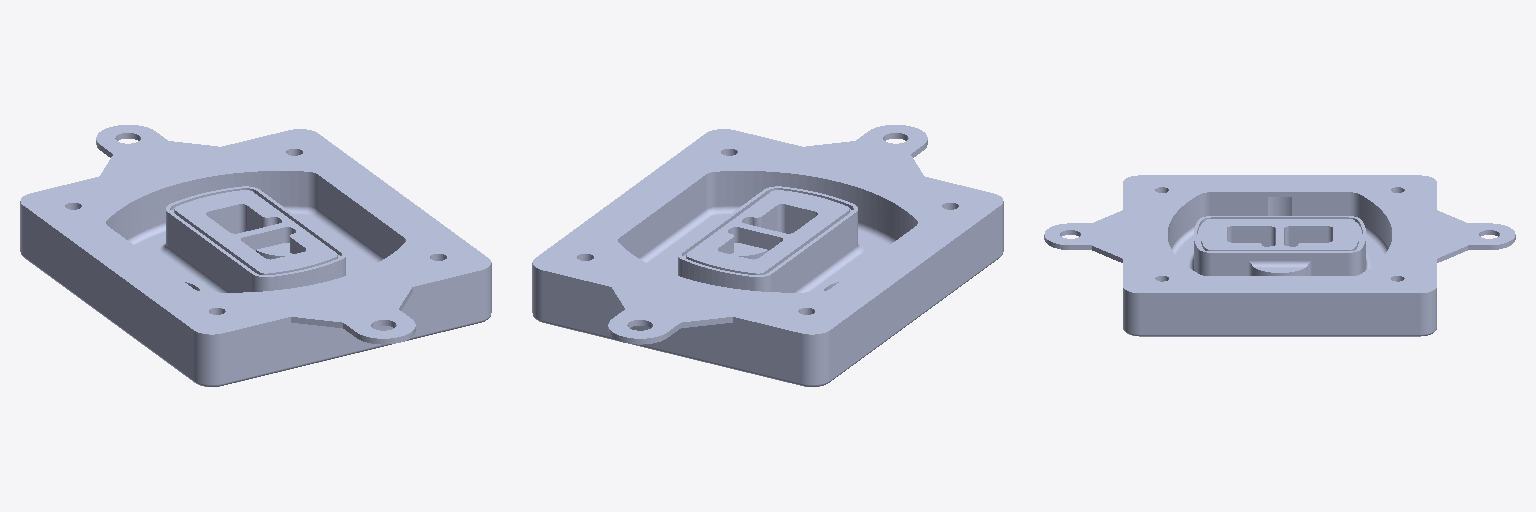
robot.urdf — abc_mesh_1_scale_4:
<?xml version="1.0" encoding="utf-8"?>
<!-- This URDF was automatically created by SolidWorks to URDF Exporter! Originally created by [author] ([email redacted]) 
     Commit Version: 1.5.1-0-g916b5db  Build Version: 1.5.7152.31018
     For more information, please see http://wiki.ros.org/sw_urdf_exporter -->
<robot
  name="abc_mesh_1_scale_4">
  <link
    name="abc_mesh_1_scale_4">
    <inertial>
      <origin
        xyz="0.0 0.0 -0.0"
        rpy="0 0 0" />
      <mass
        value="0.01" />
      <inertia
        ixx="0"
        ixy="-0"
        ixz="-0"
        iyy="0"
        iyz="-0"
        izz="0" />
    </inertial>
    <visual>
      <origin
        xyz="0 0 0"
        rpy="0 0 0" />
      <geometry>
        <mesh
          filename="package://ipa_kifz_data/test_dataset/meshes/abc_mesh_1_scale_4.STL" />
      </geometry>
      <material
        name="">
        <color
          rgba="0.79216 0.81961 0.93333 1" />
      </material>
    </visual>
    <collision>
      <origin
        xyz="0 0 0"
        rpy="0 0 0" />
      <geometry>
        <mesh
          filename="package://ipa_kifz_data/test_dataset/meshes/abc_mesh_1_scale_4.STL" />
      </geometry>
    </collision>
  </link>

  <!-- Turn of Gravity to fix workpiece at initial position-->
  <gazebo reference="abc_mesh_1_scale_4">
    <turnGravityOff>true</turnGravityOff>
    <static>true</static>
    <selfCollide>true</selfCollide>
    <material>Gazebo/Green</material>
  </gazebo>
</robot>

--- Facts derived from the render (not from the file) ---
3 views of the same robot in one strip: view 1: azimuth 30°, elevation 25°; view 2: azimuth 150°, elevation 25°; view 3: azimuth 270°, elevation 25° (orthographic).
Robot: abc_mesh_1_scale_4 — 1 links, 0 joints (none); root link abc_mesh_1_scale_4; default pose: every joint at zero.
Links seen in each view (by area): view 1: abc_mesh_1_scale_4; view 2: abc_mesh_1_scale_4; view 3: abc_mesh_1_scale_4.
Boxes of the visible links, x1,y1,x2,y2 form: abc_mesh_1_scale_4: (20,125,491,386); abc_mesh_1_scale_4: (532,125,1003,386); abc_mesh_1_scale_4: (1044,175,1515,336).
Bounding box of the posed robot: 0.64 × 1.08 × 0.112 m (x, y, z).
1 mesh visuals loaded from 1 distinct referenced files (1 binary STL).